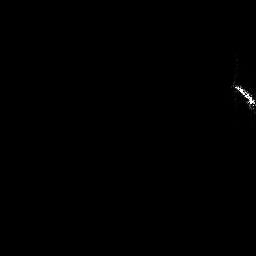ship: (231, 80, 256, 112)
